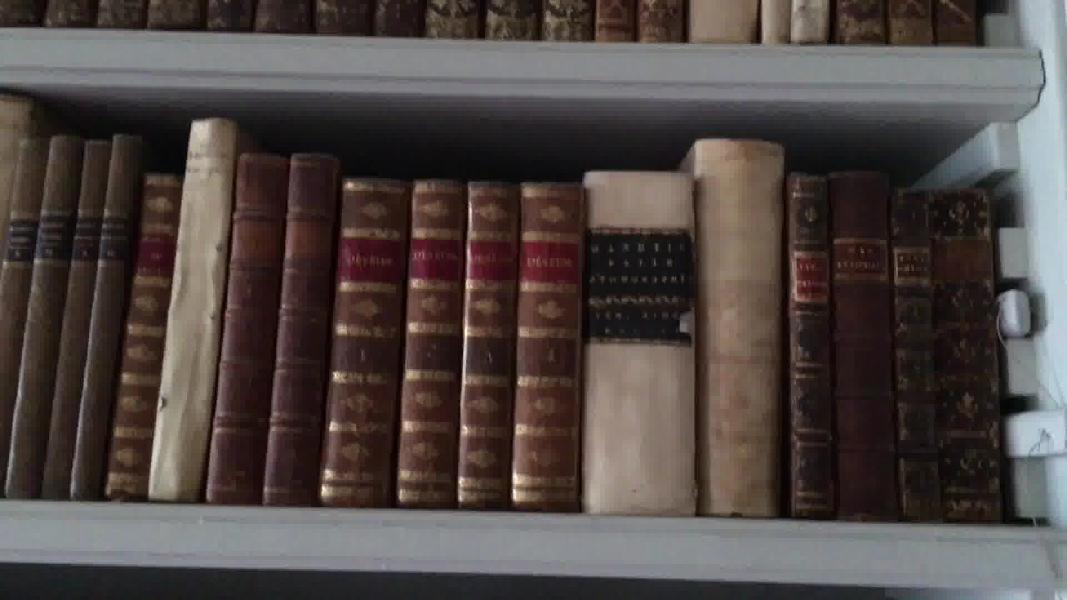Kk4-17_18: (31, 125, 144, 500)
Kk4-19: (103, 159, 188, 509)
Kk4-20: (142, 106, 239, 503)
Kk4-21_22: (203, 124, 351, 517)
Kk4-23_26: (320, 158, 598, 520)
Kk4-27: (575, 144, 713, 525)
Kk4-28: (682, 127, 800, 532)
Kk4-29: (770, 154, 843, 524)
Kk4-30: (817, 143, 906, 529)
Kk4-31: (885, 188, 942, 528)
Kk4-32: (925, 175, 1021, 532)
